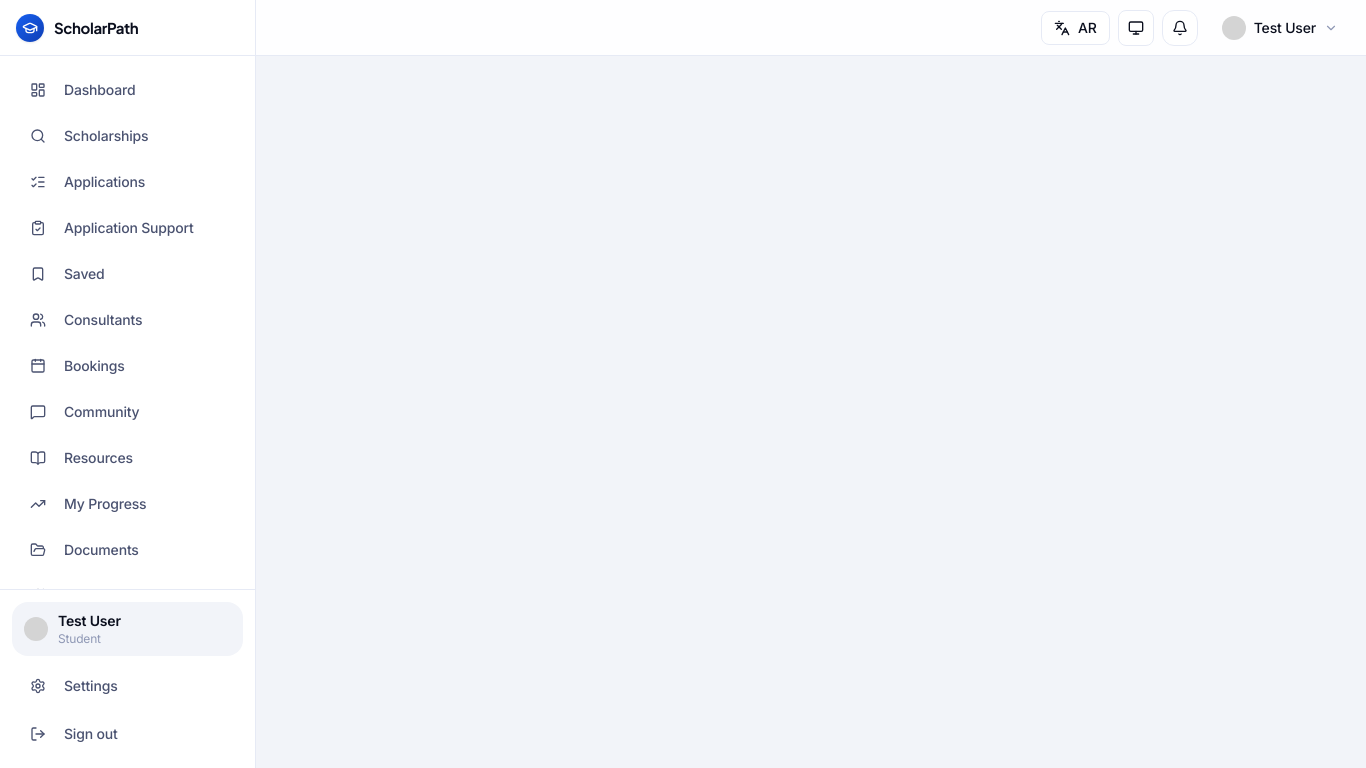
Test: ProfileMenu — role switcher › does not show switch options for a single-role user
Step 1. Click the button with aria-label "profile" → (1280, 28), box left=1210, top=10, right=1350, bottom=46
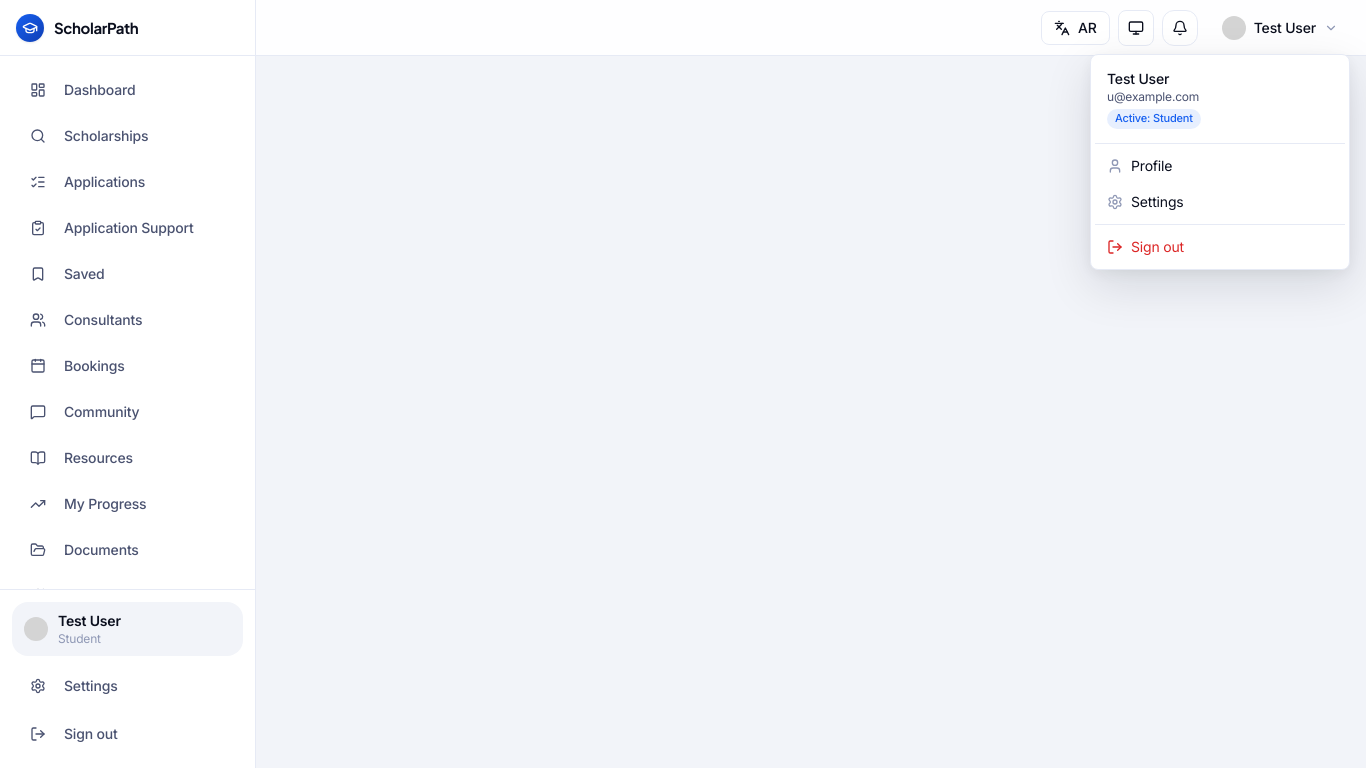
Check: the text "u@example.com" is shown, box left=1107, top=89, right=1199, bottom=104
